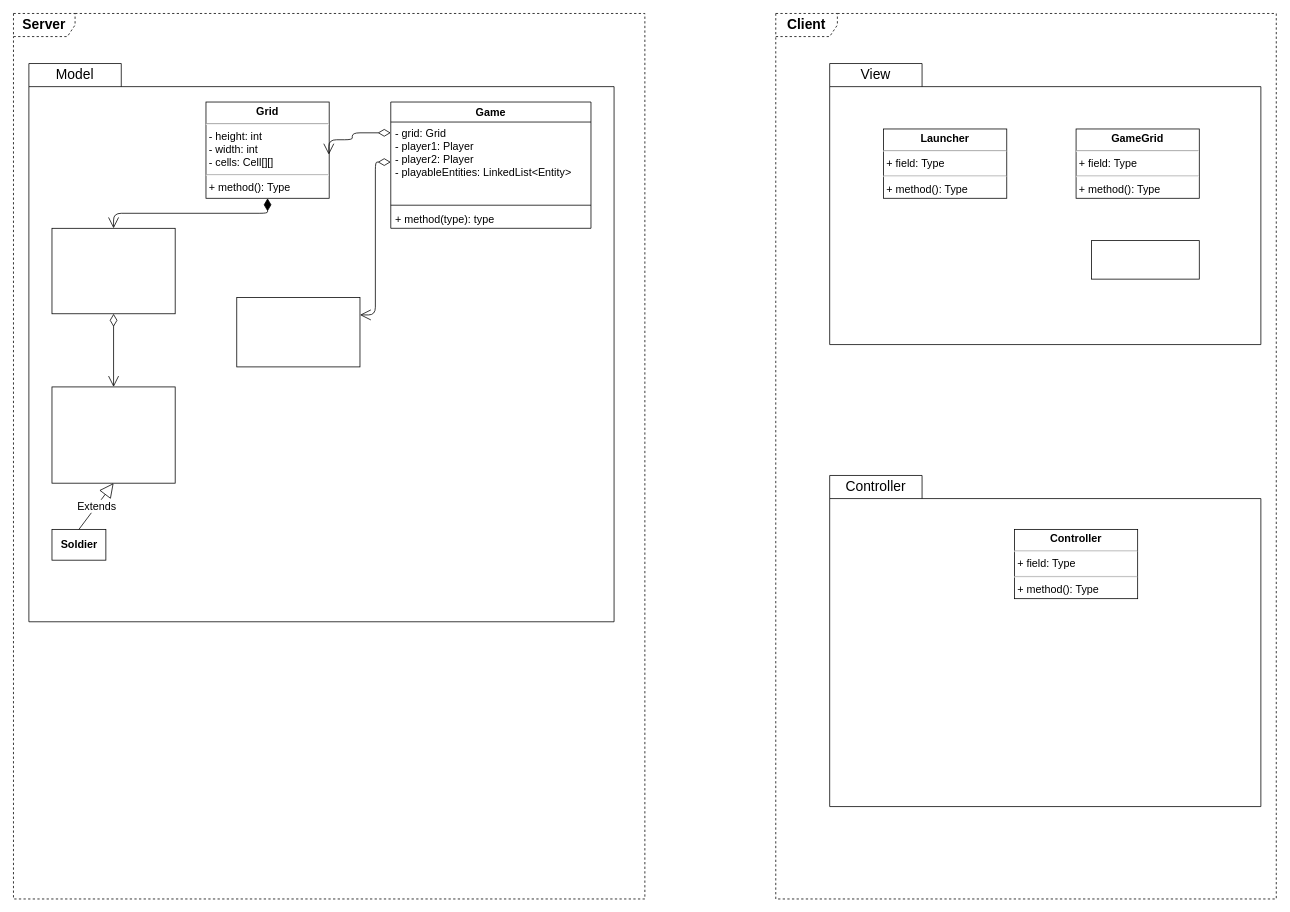
The diagram is 1290 pixels wide and 912 high, and some of its shapes have lost their labels. Here are the shapes that lost their labels. From the top down, the centre of each, then its label:
the point at 113,271: Cell - entity: Entity - height: int
the point at 1145,259: GameCamera
the point at 298,332: Player + field: Type + method(): Type
the point at 113,434: Entity (abstract) - x: int - y: int - hp: int - player: Player
